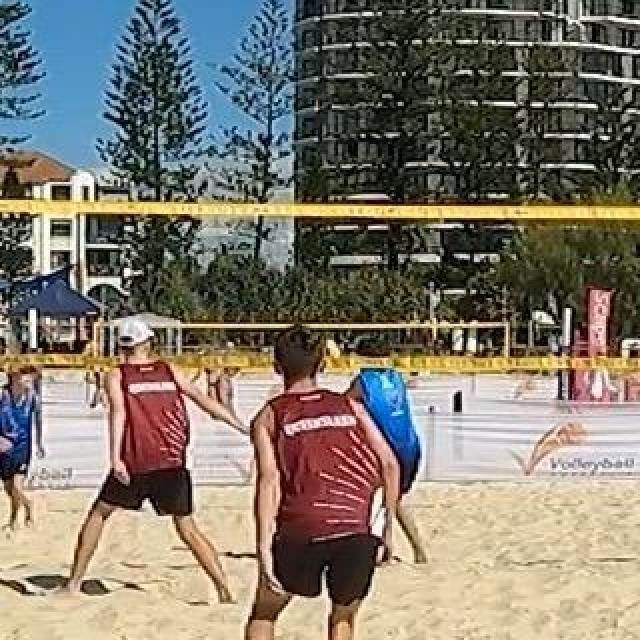volleyball: (307, 336, 341, 372)
